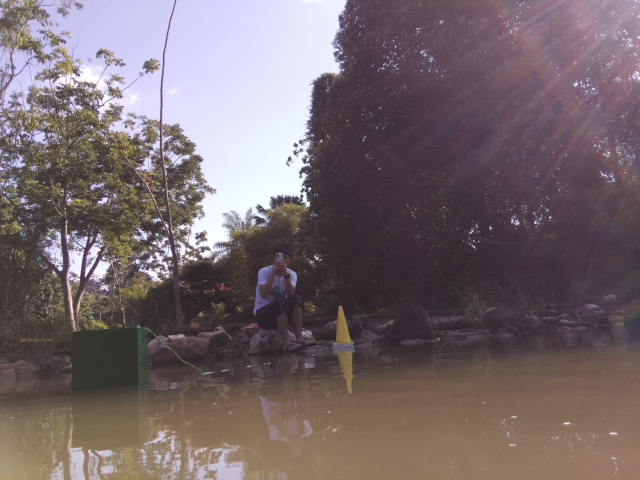checkpoint: (331, 303, 356, 355)
obstacle: (70, 324, 149, 393)
